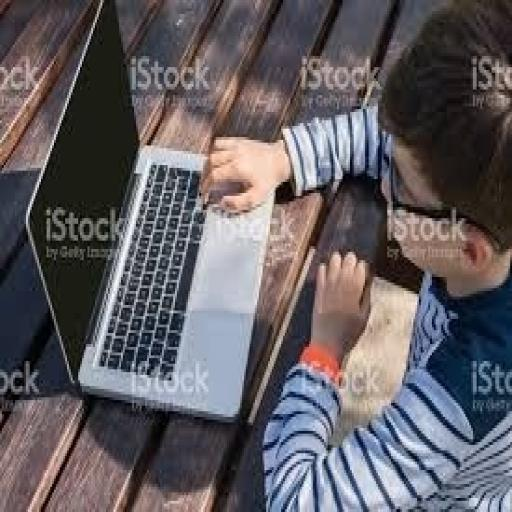using_laptop: (24, 0, 277, 422)
